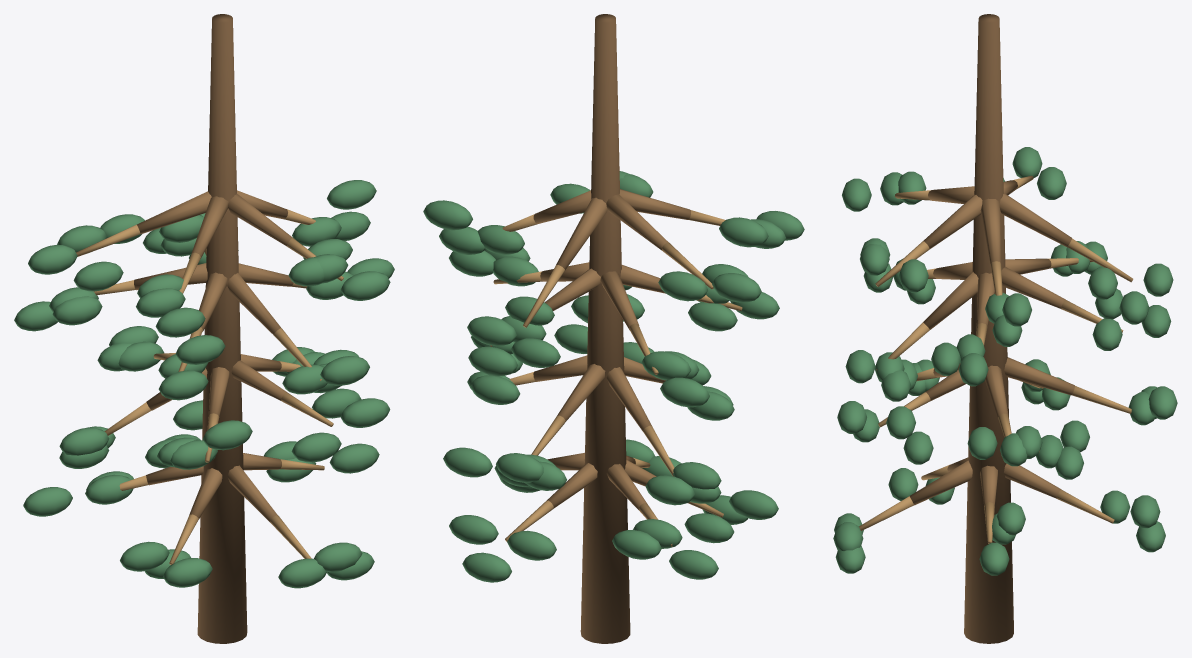
Rendered from conifer_sapling_c.glb.
The picture shows the model from 3 angles, left to right: view 1: azimuth 30°, elevation 25°; view 2: azimuth 150°, elevation 25°; view 3: azimuth 270°, elevation 25°; orthographic projection.
Parts seen in each view (by area): view 1: conifer_sapling_c_trunk, conifer_sapling_c_branch_3_2_a, conifer_sapling_c_branch_3_4_a, sapling_mass_0_needle_mass_1, sapling_mass_17_needle_mass_0, sapling_mass_18_needle_mass_1, sapling_mass_8_needle_mass_1, sapling_mass_9_needle_mass_1, sapling_mass_13_needle_mass_1, sapling_mass_13_needle_mass_0, sapling_mass_10_needle_mass_1, sapling_mass_14_needle_mass_0 (+47 smaller); view 2: conifer_sapling_c_trunk, conifer_sapling_c_branch_3_1_a, conifer_sapling_c_branch_3_2_a, sapling_mass_0_needle_mass_1, sapling_mass_12_needle_mass_1, sapling_mass_11_needle_mass_2, sapling_mass_18_needle_mass_2, sapling_mass_1_needle_mass_2, sapling_mass_15_needle_mass_2, sapling_mass_1_needle_mass_0, sapling_mass_17_needle_mass_1, sapling_mass_1_needle_mass_1 (+37 smaller); view 3: conifer_sapling_c_trunk, conifer_sapling_c_branch_3_1_a, conifer_sapling_c_branch_1_1_a, conifer_sapling_c_branch_3_4_a, conifer_sapling_c_branch_2_4_a, conifer_sapling_c_branch_2_1_a, conifer_sapling_c_branch_0_4_a, conifer_sapling_c_branch_3_0_a, conifer_sapling_c_branch_0_1_a, sapling_mass_16_needle_mass_0, sapling_mass_16_needle_mass_1, sapling_mass_1_needle_mass_2 (+50 smaller).
Part boxes in pixels (bbox=[...]): conifer_sapling_c_trunk: bbox=[197, 14, 247, 643]; conifer_sapling_c_branch_3_2_a: bbox=[137, 191, 211, 234]; conifer_sapling_c_branch_3_4_a: bbox=[228, 193, 292, 245]; sapling_mass_0_needle_mass_1: bbox=[329, 443, 379, 473]; sapling_mass_17_needle_mass_0: bbox=[73, 261, 123, 291]; sapling_mass_18_needle_mass_1: bbox=[155, 307, 205, 337]; sapling_mass_8_needle_mass_1: bbox=[203, 420, 252, 450]; sapling_mass_9_needle_mass_1: bbox=[291, 432, 341, 462]; sapling_mass_13_needle_mass_1: bbox=[175, 335, 225, 364]; sapling_mass_13_needle_mass_0: bbox=[158, 370, 208, 400]; sapling_mass_10_needle_mass_1: bbox=[340, 271, 390, 300]; sapling_mass_14_needle_mass_0: bbox=[320, 356, 369, 385]; conifer_sapling_c_trunk: bbox=[580, 14, 630, 643]; conifer_sapling_c_branch_3_1_a: bbox=[556, 197, 607, 270]; conifer_sapling_c_branch_3_2_a: bbox=[606, 194, 668, 250]; sapling_mass_0_needle_mass_1: bbox=[443, 447, 492, 477]; sapling_mass_12_needle_mass_1: bbox=[660, 377, 709, 407]; sapling_mass_11_needle_mass_2: bbox=[468, 346, 517, 376]; sapling_mass_18_needle_mass_2: bbox=[719, 217, 768, 247]; sapling_mass_1_needle_mass_2: bbox=[449, 515, 498, 544]; sapling_mass_15_needle_mass_2: bbox=[423, 200, 472, 230]; sapling_mass_1_needle_mass_0: bbox=[507, 530, 556, 560]; sapling_mass_17_needle_mass_1: bbox=[658, 271, 707, 301]; sapling_mass_1_needle_mass_1: bbox=[462, 552, 511, 582]; conifer_sapling_c_trunk: bbox=[964, 14, 1013, 643]; conifer_sapling_c_branch_3_1_a: bbox=[999, 193, 1071, 246]; conifer_sapling_c_branch_1_1_a: bbox=[1004, 357, 1074, 395]; conifer_sapling_c_branch_3_4_a: bbox=[923, 194, 982, 248]; conifer_sapling_c_branch_2_4_a: bbox=[923, 272, 978, 329]; conifer_sapling_c_branch_2_1_a: bbox=[1001, 266, 1065, 308]; conifer_sapling_c_branch_0_4_a: bbox=[909, 460, 972, 505]; conifer_sapling_c_branch_3_0_a: bbox=[980, 198, 1000, 263]; conifer_sapling_c_branch_0_1_a: bbox=[1004, 463, 1061, 498]; sapling_mass_16_needle_mass_0: bbox=[1119, 291, 1149, 324]; sapling_mass_16_needle_mass_1: bbox=[1143, 263, 1173, 296]; sapling_mass_1_needle_mass_2: bbox=[1130, 495, 1160, 528].
Bounding box in the file's own units: 0.8599 × 1.49 × 0.756.
